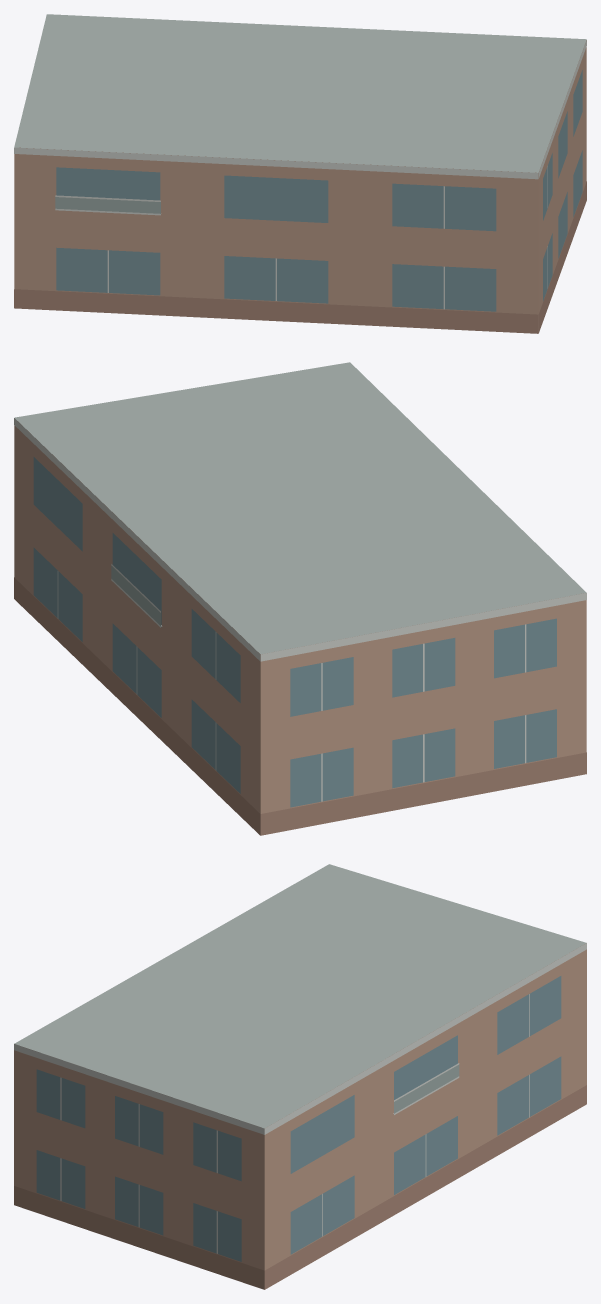
Rendered from survey-upis-32578547.glb.
3 views of the same model, one above another, from view 1: azimuth 30°, elevation 25°; view 2: azimuth 150°, elevation 25°; view 3: azimuth 270°, elevation 25° (orthographic). The views are drawn at different scales.
Visible parts, largest first — view 1: survey-upis-32578547.tmp; view 2: survey-upis-32578547.tmp; view 3: survey-upis-32578547.tmp.
Part boxes in pixels (left/top/right/bottom): survey-upis-32578547.tmp: left=14, top=14, right=586, bottom=333; survey-upis-32578547.tmp: left=14, top=362, right=586, bottom=835; survey-upis-32578547.tmp: left=14, top=864, right=586, bottom=1289.
Bounding box in the file's own units: 21.45 × 6.1 × 19.64.
